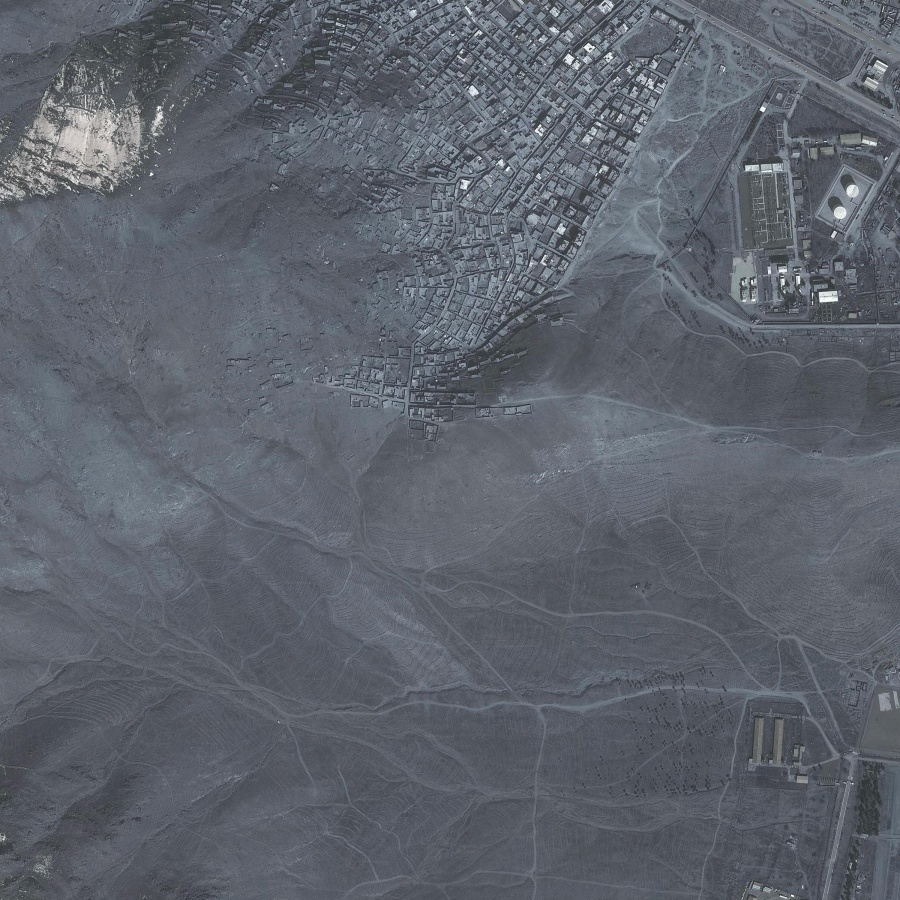PowerPlant: (740, 126, 883, 317)
